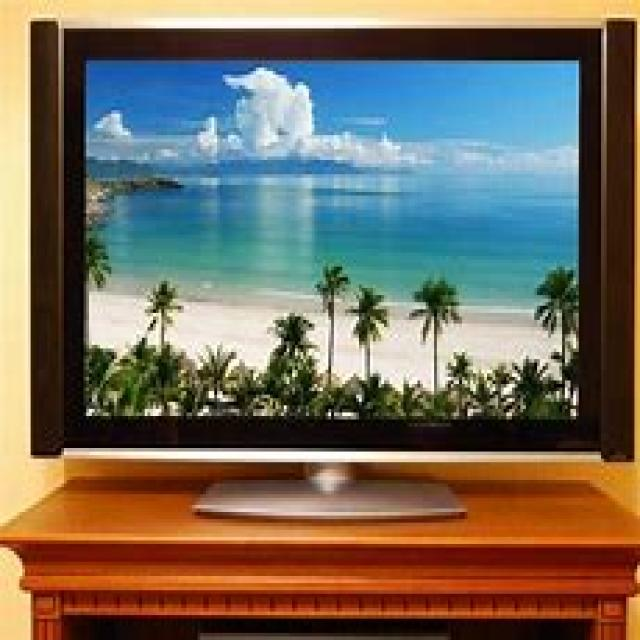tv: (28, 18, 634, 519)
